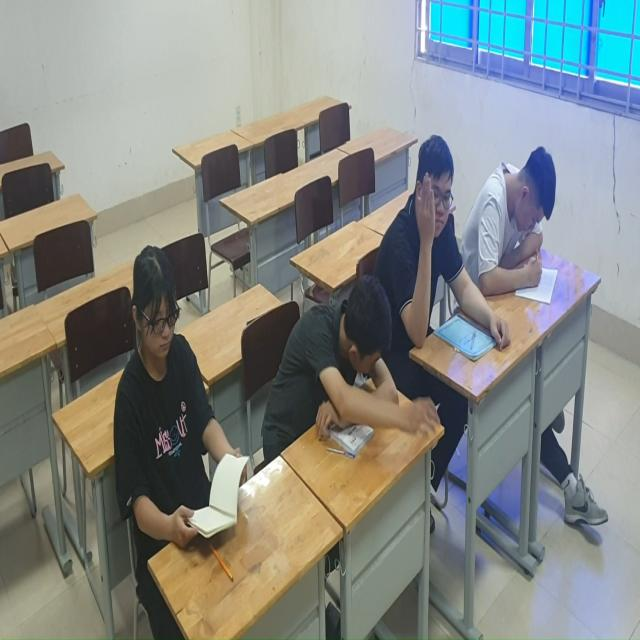raise_hand: (409, 133, 463, 359)
read: (111, 242, 252, 556), (467, 144, 561, 308)
sleep: (266, 268, 396, 444)
